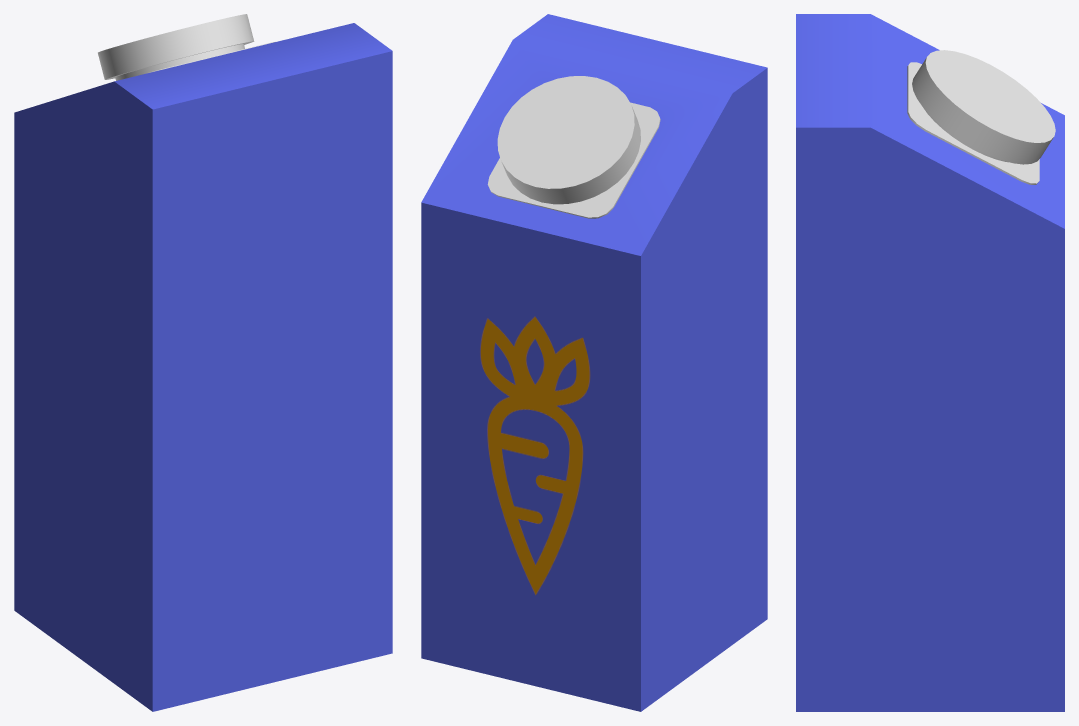
The model's file is Juice_carrot.fbx.
3 views of the same model, side by side, from view 1: azimuth 30°, elevation 25°; view 2: azimuth 150°, elevation 25°; view 3: azimuth 270°, elevation 25° (orthographic). The views are drawn at different scales.
Visible parts, largest first — view 1: Juice_carrot; view 2: Juice_carrot; view 3: Juice_carrot.
Part boxes in pixels (bbox=[...]): Juice_carrot: bbox=[14, 14, 392, 711]; Juice_carrot: bbox=[421, 14, 767, 711]; Juice_carrot: bbox=[796, 14, 1064, 711].
Size of the model in its own units: 19.77 by 19.77 by 48.08.
